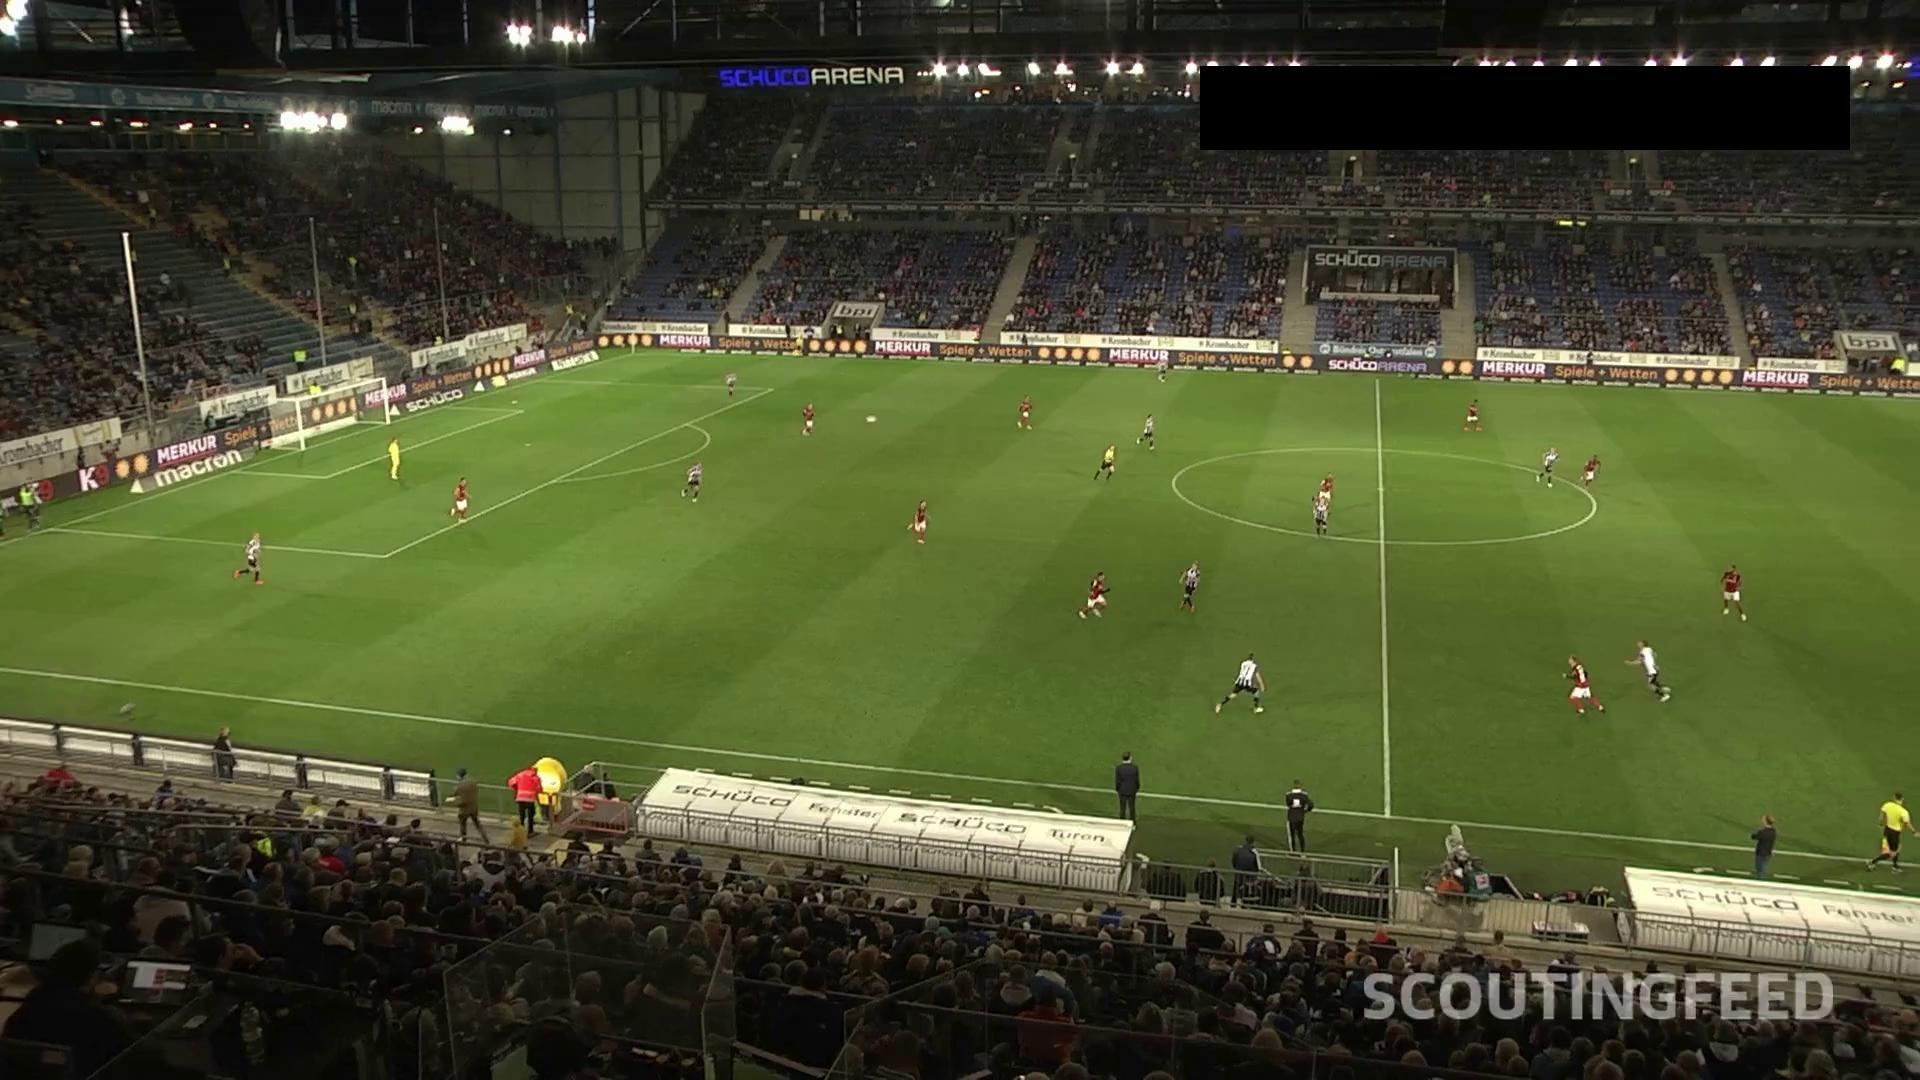Location-of-ball: (864, 405, 882, 431)
